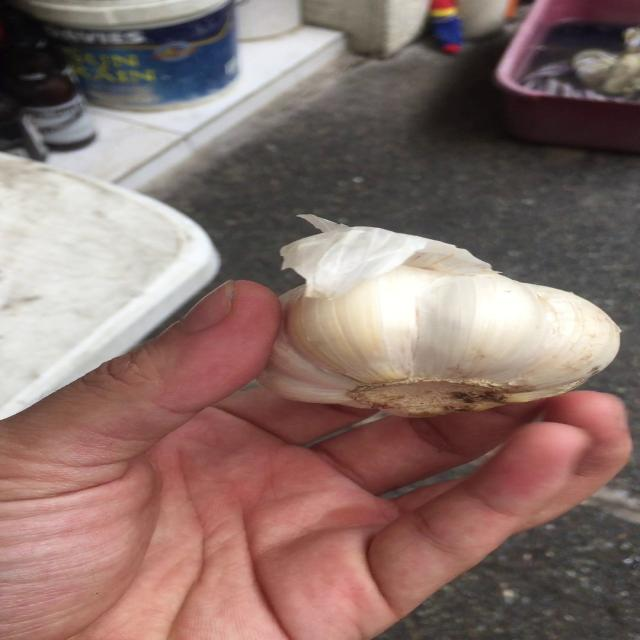garlic: (248, 252, 629, 423)
